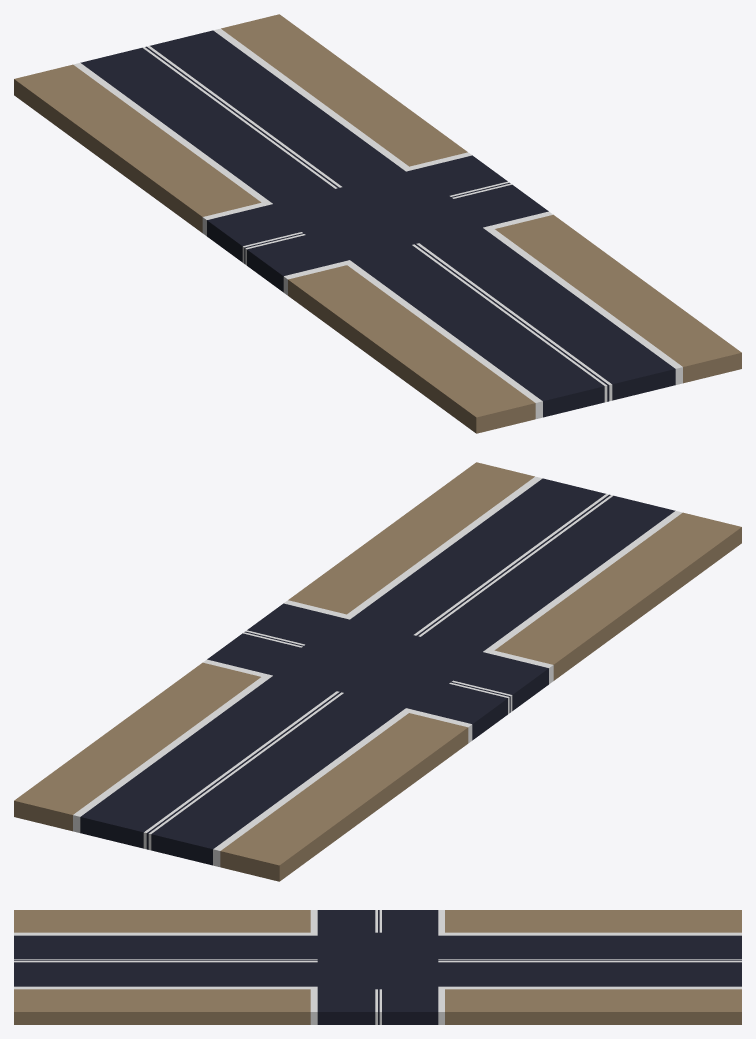
Rendered from CityRoad001X.fbx.
3 renders of one model, top to bottom at view 1: azimuth 30°, elevation 25°; view 2: azimuth 150°, elevation 25°; view 3: azimuth 270°, elevation 25°, orthographic. The views are drawn at different scales.
Visible parts, largest first — view 1: Cube; view 2: Cube; view 3: Cube.
Boxes of the visible parts, box(x1,y1,x2,y2) form: Cube: box(14, 14, 741, 433); Cube: box(14, 462, 741, 881); Cube: box(14, 910, 741, 1024).
Size of the model in its own units: 200 by 11.74 by 603.
